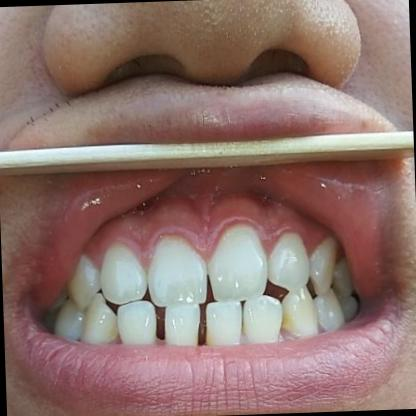Gap: (155, 256, 258, 303), (165, 301, 238, 347)
